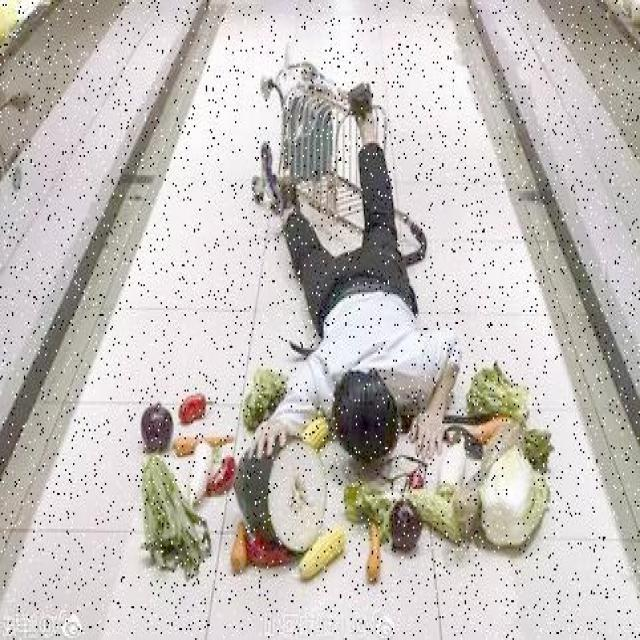fall: (265, 80, 445, 449)
